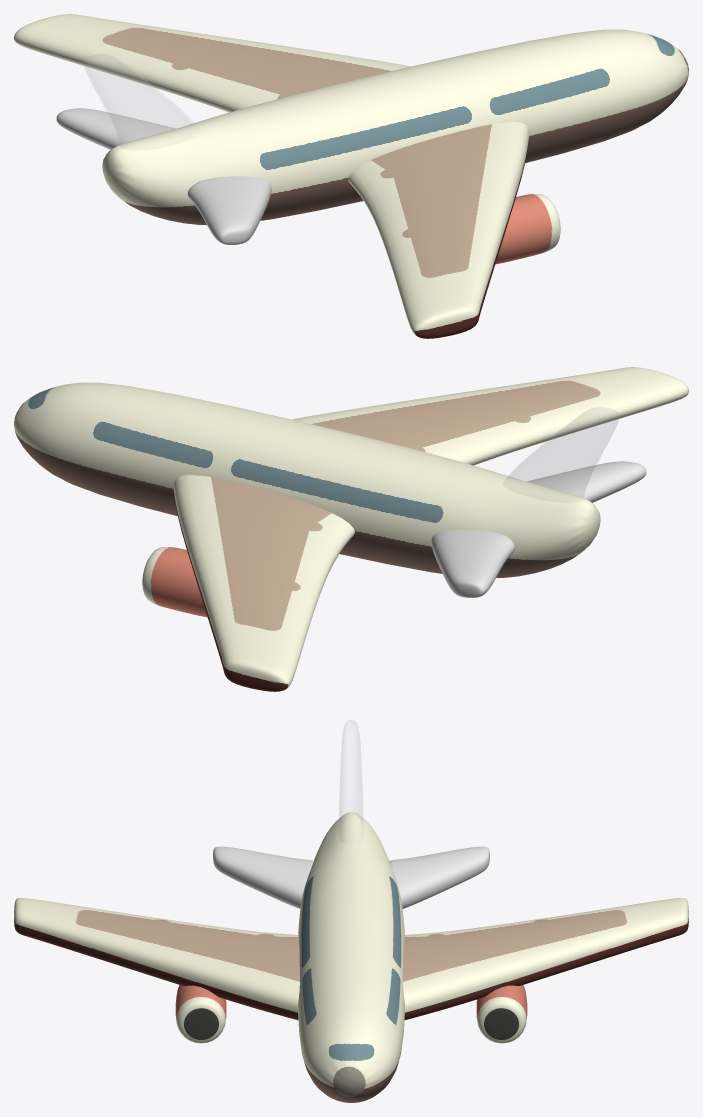
File: plane4_applied+glass.gltf
3 views of the same model, one above another, from view 1: azimuth 30°, elevation 25°; view 2: azimuth 150°, elevation 25°; view 3: azimuth 270°, elevation 25° (orthographic). The views are drawn at different scales.
Parts seen in each view (by area): view 1: PlaneBody, MainWings, RearWings, TopWing, Engine; view 2: PlaneBody, MainWings, RearWings, TopWing, Engine; view 3: MainWings, PlaneBody, RearWings, Engine, TopWing.
Part boxes in pixels (<box>): PlaneBody: <box>102,29,688,224</box>; MainWings: <box>14,14,529,338</box>; RearWings: <box>56,108,271,244</box>; TopWing: <box>84,54,196,144</box>; Engine: <box>495,194,560,264</box>; PlaneBody: <box>14,382,600,577</box>; MainWings: <box>173,367,688,691</box>; RearWings: <box>431,461,646,597</box>; TopWing: <box>506,407,618,497</box>; Engine: <box>142,547,207,617</box>; MainWings: <box>14,898,688,1020</box>; PlaneBody: <box>298,812,404,1102</box>; RearWings: <box>213,846,489,908</box>; Engine: <box>175,985,527,1043</box>; TopWing: <box>339,720,362,829</box>.
Bounding box in the file's own units: 1.65 × 0.56 × 1.93.
Materials: 4 (3 with a texture image).
